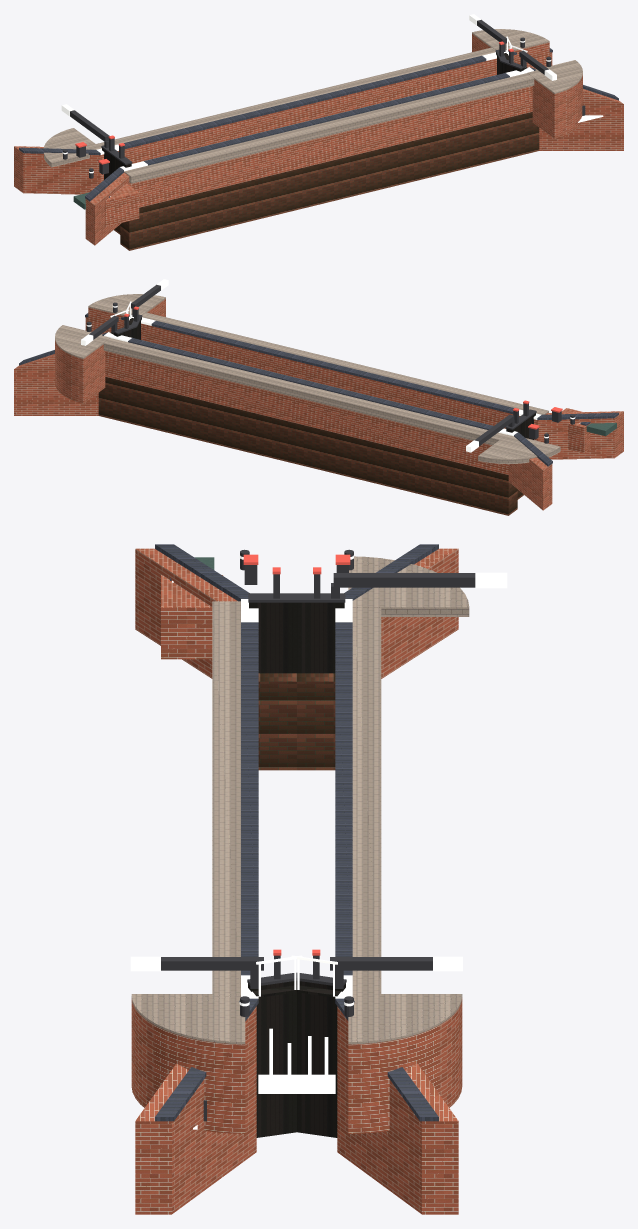
The model's file is lock-55.glb.
3 views of the same model, one above another, from view 1: azimuth 30°, elevation 25°; view 2: azimuth 150°, elevation 25°; view 3: azimuth 270°, elevation 25° (orthographic). The views are drawn at different scales.
Parts seen in each view (by area): view 1: Chamber, ChamberWet, Edge, Coping.001, TopGateCap, Coping, TopGate; view 2: Chamber, ChamberWet, Edge, Coping.001, TopGateCap, Coping, TopGate; view 3: Chamber, Edge, Coping.001, TopGate, TopGateCap, ChamberWet, Coping, Leak.
Part boxes in pixels (x1=…): Chamber: x1=14, y1=34, x2=623, y2=245; ChamberWet: x1=114, y1=112, x2=539, y2=250; Edge: x1=44, y1=29, x2=582, y2=183; Coping.001: x1=19, y1=48, x2=618, y2=201; TopGateCap: x1=63, y1=19, x2=585, y2=178; Coping: x1=61, y1=14, x2=556, y2=173; TopGate: x1=102, y1=53, x2=527, y2=179; Chamber: x1=14, y1=299, x2=623, y2=510; ChamberWet: x1=98, y1=377, x2=523, y2=515; Edge: x1=55, y1=294, x2=560, y2=464; Coping.001: x1=19, y1=313, x2=618, y2=466; TopGateCap: x1=86, y1=284, x2=574, y2=446; Coping: x1=81, y1=279, x2=575, y2=452; TopGate: x1=110, y1=318, x2=535, y2=439; Chamber: x1=131, y1=548, x2=462, y2=1214; Edge: x1=131, y1=556, x2=469, y2=1044; Coping.001: x1=155, y1=544, x2=438, y2=1121; TopGate: x1=248, y1=602, x2=345, y2=1137; TopGateCap: x1=161, y1=549, x2=475, y2=1121; ChamberWet: x1=258, y1=673, x2=335, y2=770; Coping: x1=130, y1=555, x2=507, y2=1006; Leak: x1=172, y1=580, x2=335, y2=1129.
Bounding box in the file's own units: 33.34 × 5.69 × 10.24.
11 materials, 8 textured.
